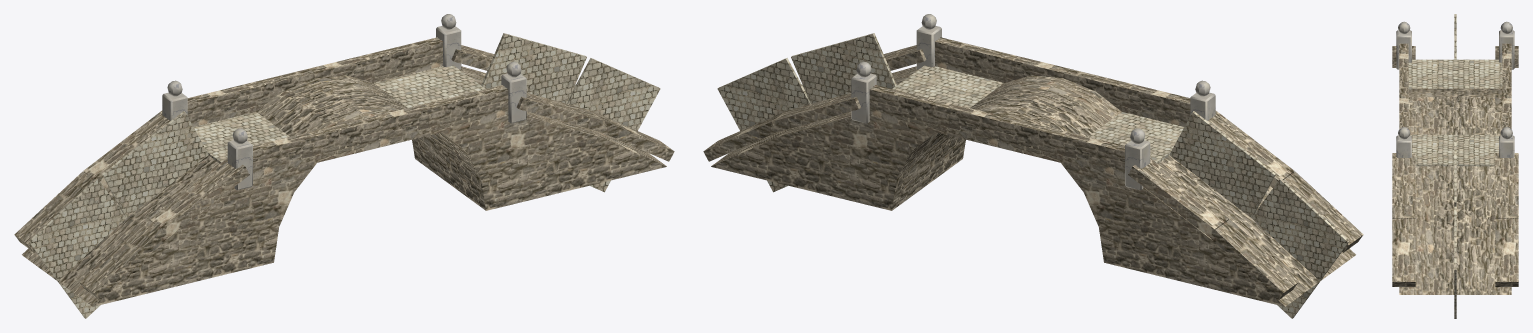
Rendered from infra_bridge.glb.
3 renders of one model, left to right at view 1: azimuth 30°, elevation 25°; view 2: azimuth 150°, elevation 25°; view 3: azimuth 270°, elevation 25°, orthographic. The views are drawn at different scales.
Parts seen in each view (by area): view 1: stone, paving, marble; view 2: stone, paving, marble; view 3: stone, paving, marble.
Boxes of the visible parts, x1,y1,x2,y2 form: stone: (14, 37, 674, 306); paving: (28, 33, 660, 318); marble: (162, 14, 526, 190); stone: (703, 37, 1363, 306); paving: (717, 33, 1349, 318); marble: (851, 14, 1215, 190); stone: (1392, 43, 1518, 294); paving: (1408, 14, 1502, 318); marble: (1396, 21, 1514, 157).
Bounding box in the file's own units: 18.43 × 5.12 × 4.05.
Materials: 3 (3 with a texture image).
